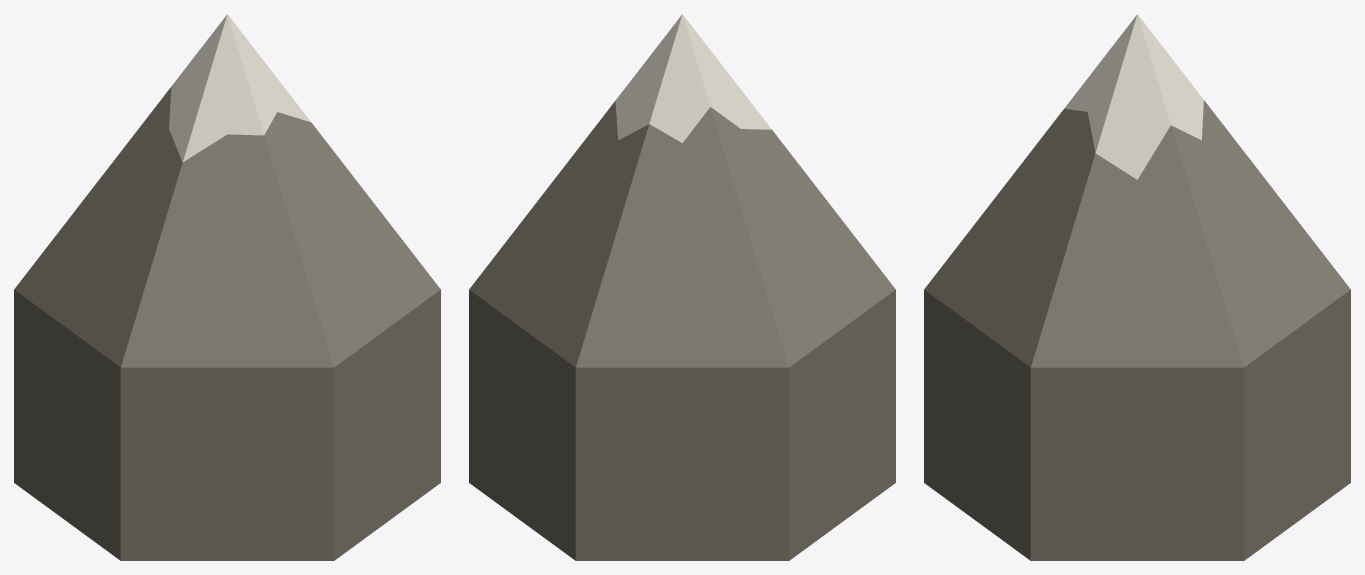
The model's file is Tile_Mountain_01.gltf.
3 renders of one model, left to right at view 1: azimuth 30°, elevation 25°; view 2: azimuth 150°, elevation 25°; view 3: azimuth 270°, elevation 25°, orthographic.
Parts seen in each view (by area): view 1: Tile_Mountain_01; view 2: Tile_Mountain_01; view 3: Tile_Mountain_01.
Boxes of the visible parts, x1,y1,x2,y2 form: Tile_Mountain_01: (14, 14, 440, 560); Tile_Mountain_01: (469, 14, 895, 560); Tile_Mountain_01: (924, 14, 1350, 560).
Size of the model in its own units: 1.73 by 2.42 by 2.
Materials: 1 (1 with a texture image).
